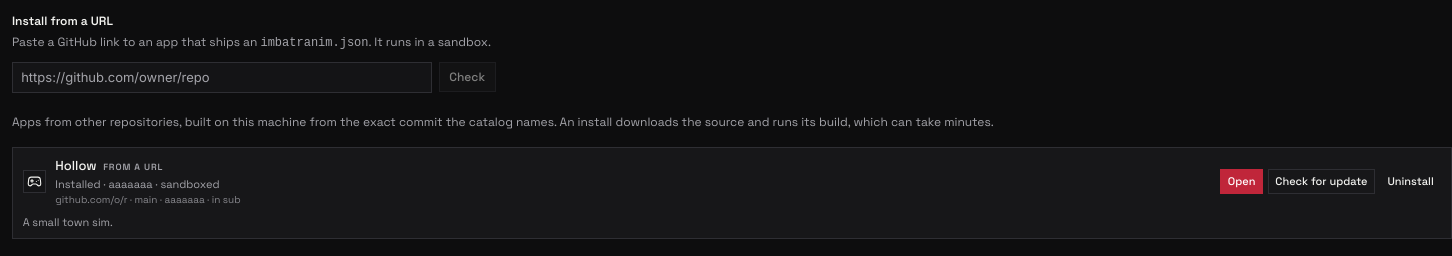
Test: MarketplaceSettings: Check for update on a URL app › says up to date at the same commit, and drops the inspection
Click the button "Check for update".
click(1321, 182)  # box top-left (1268, 169), bottom-right (1375, 194)
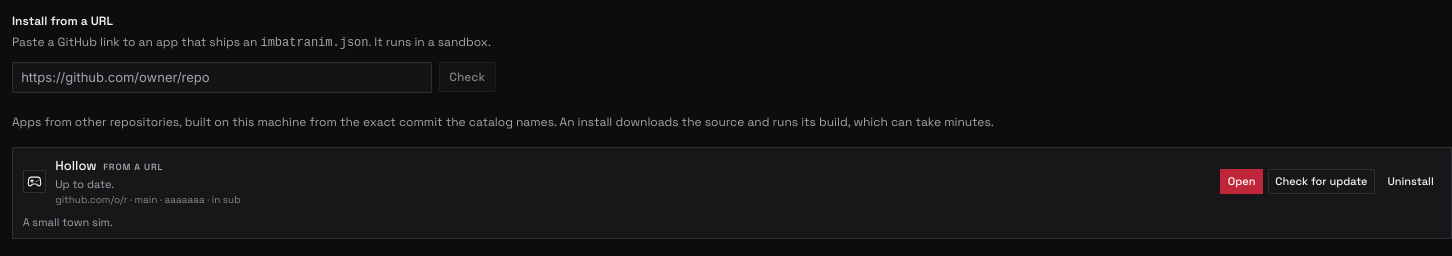
Result: the text "Up to date." is shown at top-left (55, 177), bottom-right (114, 191)
